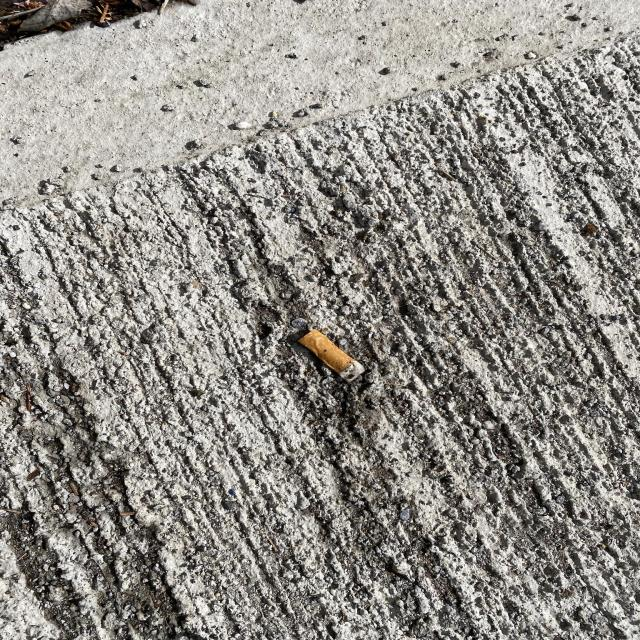other waste: (297, 329, 365, 383)
